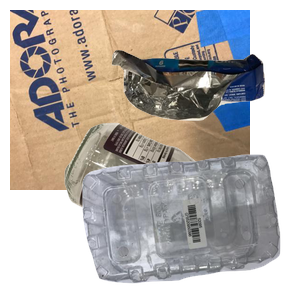cardboard: (10, 10, 250, 190)
glass: (62, 120, 300, 300)
plastic: (80, 152, 300, 300)
trash: (109, 47, 300, 160)
